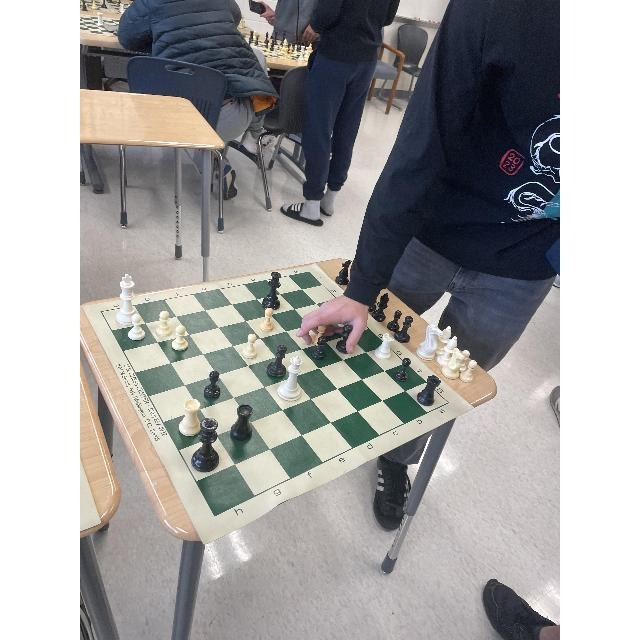black-pawn: (192, 423, 221, 473), (231, 406, 255, 442), (266, 272, 285, 312), (204, 369, 223, 399)
white-bishop: (117, 281, 148, 347)
white-pawn: (279, 355, 309, 406), (187, 404, 215, 458), (159, 312, 192, 348), (179, 396, 204, 434), (242, 338, 268, 363), (263, 306, 283, 337)
